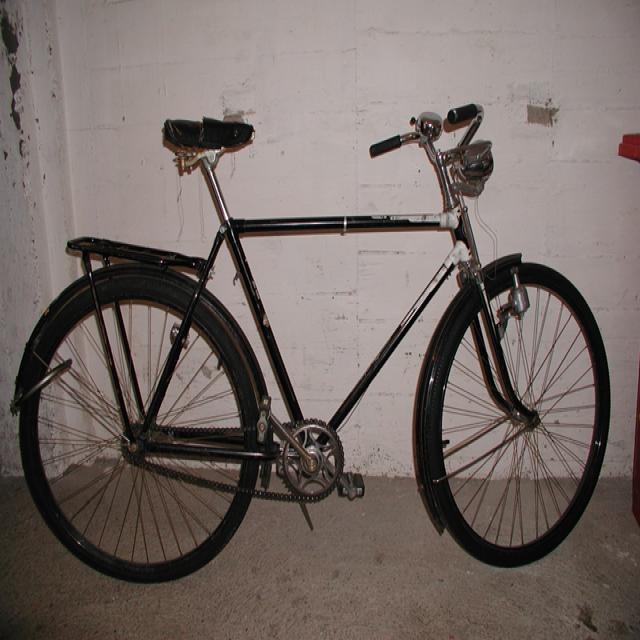bicycle: (11, 101, 611, 583)
